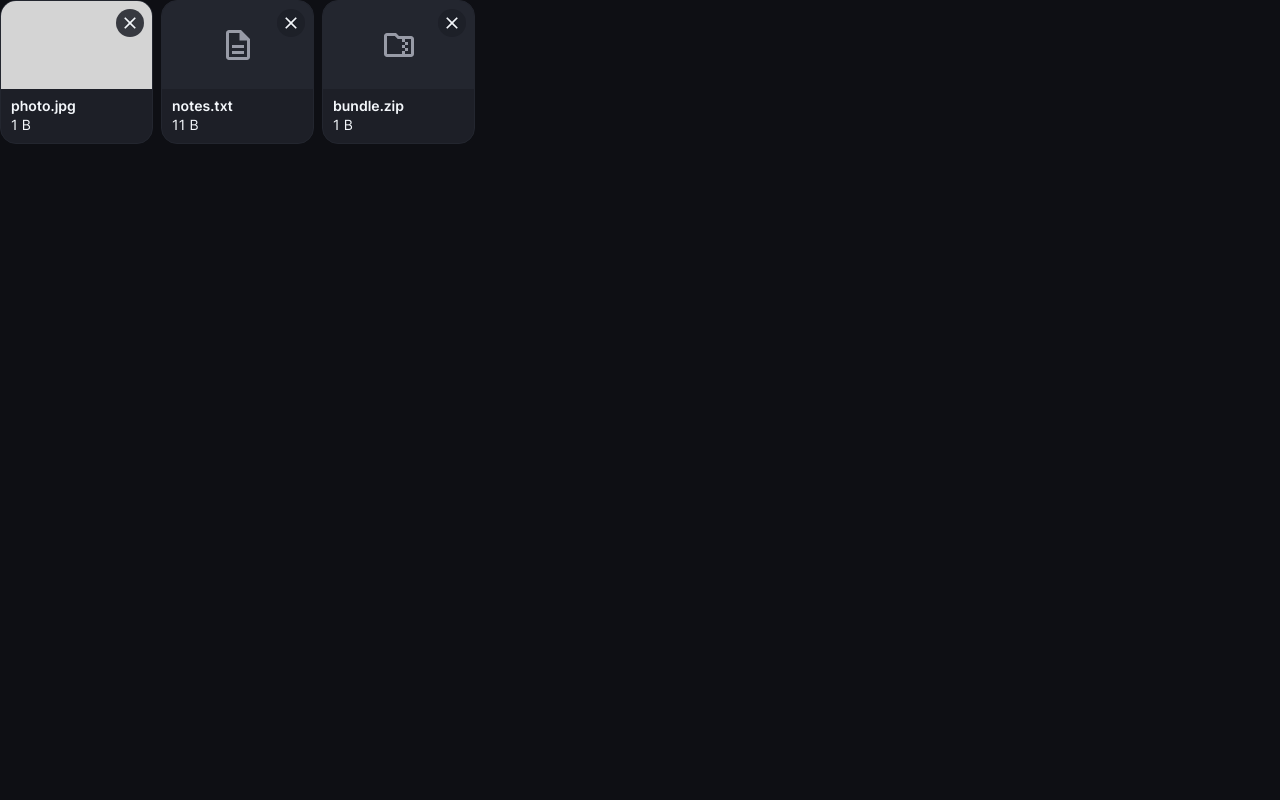
Test: ComposeAttachments › previews a file before it is sent, with Previous and Next
Click the button with aria-label "Preview photo.jpg". click: click(76, 72)
box: [1,1,152,144]
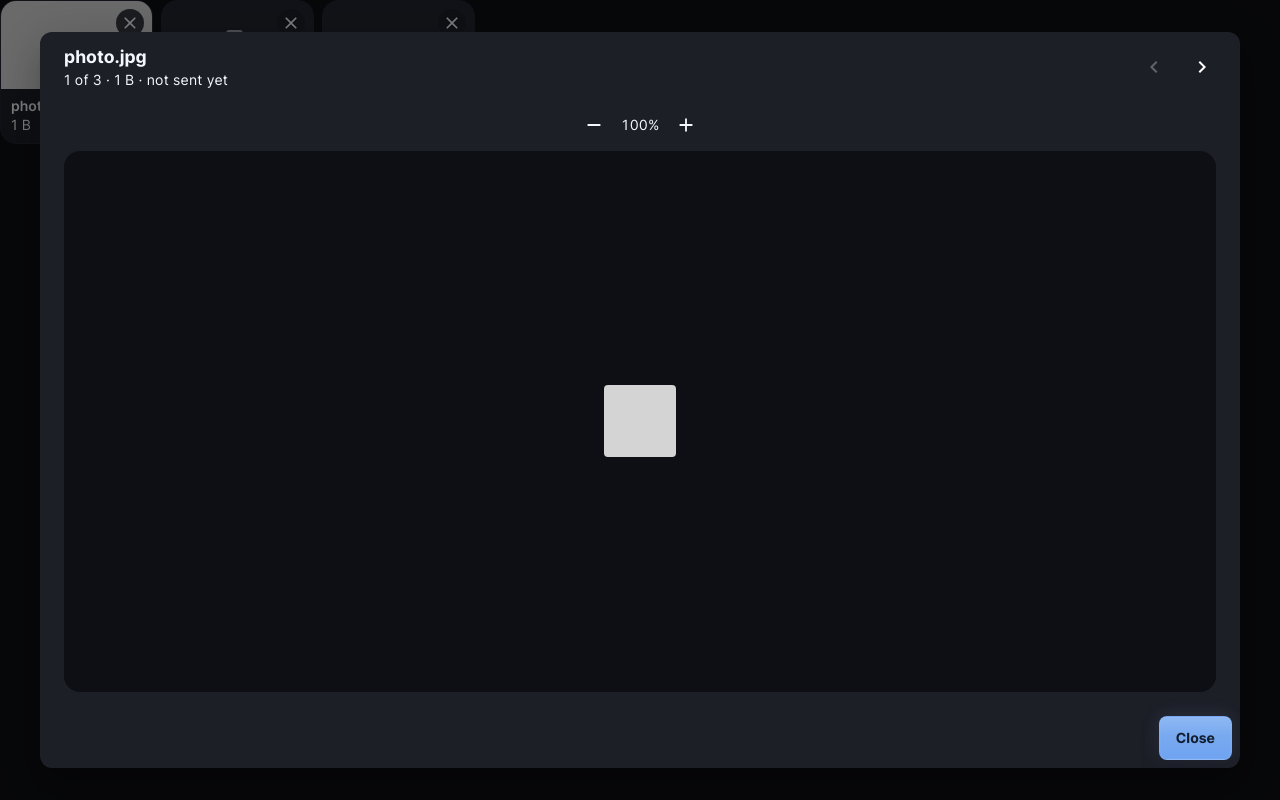
Check: the dialog "photo.jpg 1 of 3 · 1 B · not sent yet 100% Close" is shown
Click the button named "Next attachment". click: click(1202, 67)
box: [1180,45,1224,89]
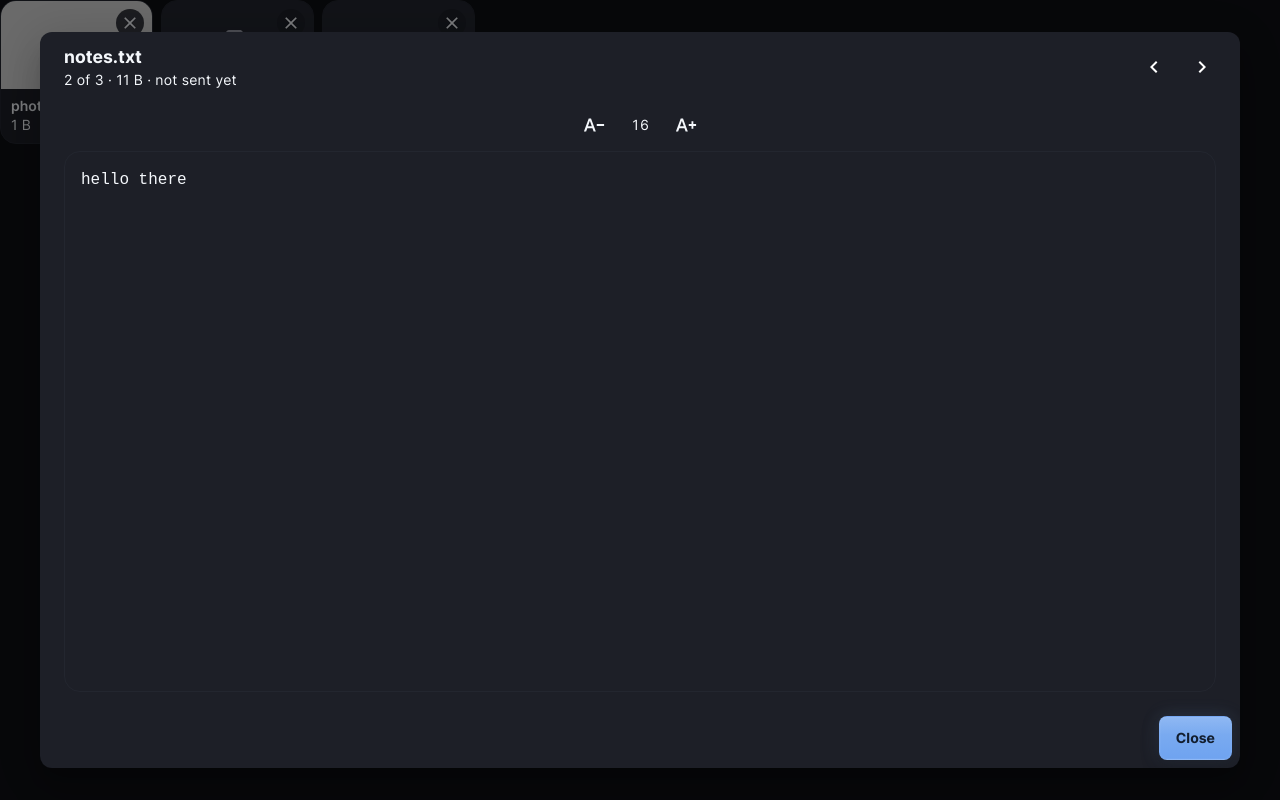
Check: the text "hello there" is shown, box [81,171,187,189]
Click the button named "Next attachment". click: click(1202, 67)
box: [1180,45,1224,89]
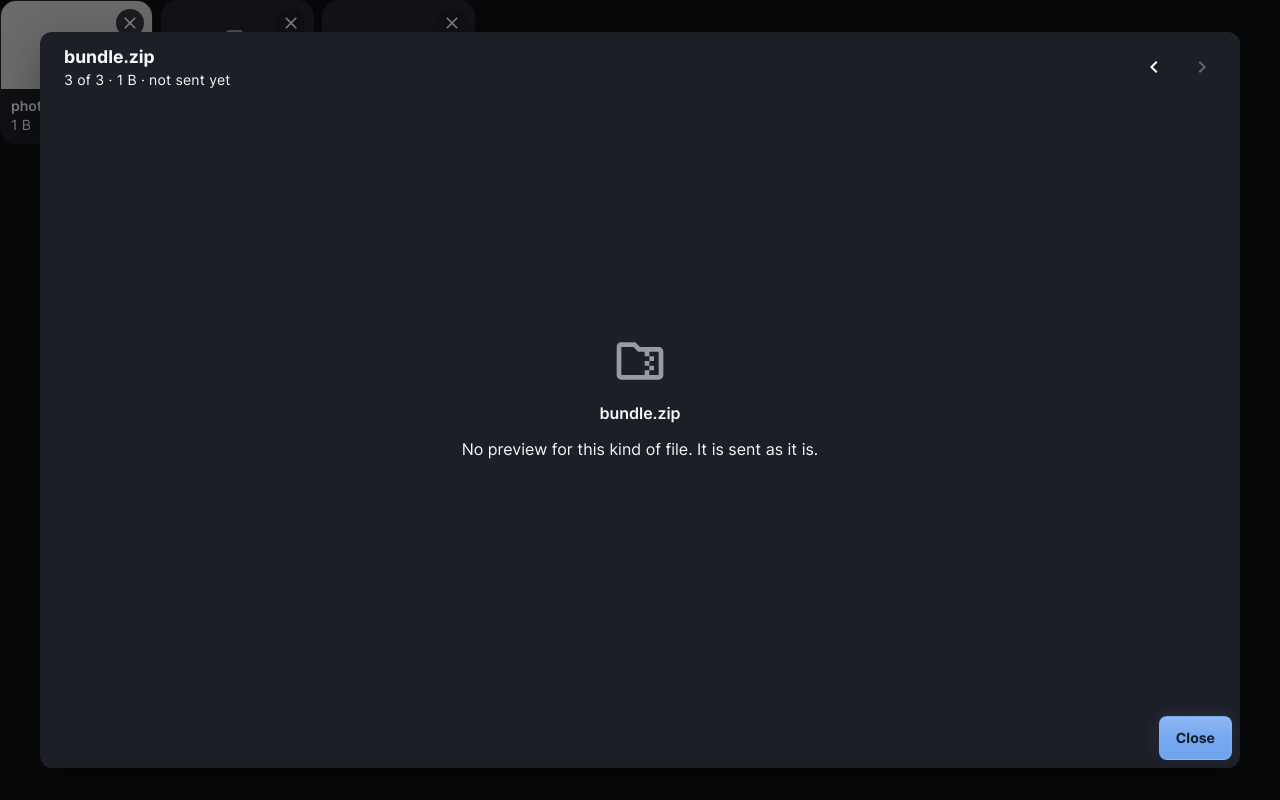
Check: the text "No preview for this kind of file. It is sent as it is." is shown, box [462,437,818,461]
Check: the button named "Next attachment" is disabled, box [1180,45,1224,89]
Click the button "Close". click: click(1195, 738)
box: [1159,716,1232,760]
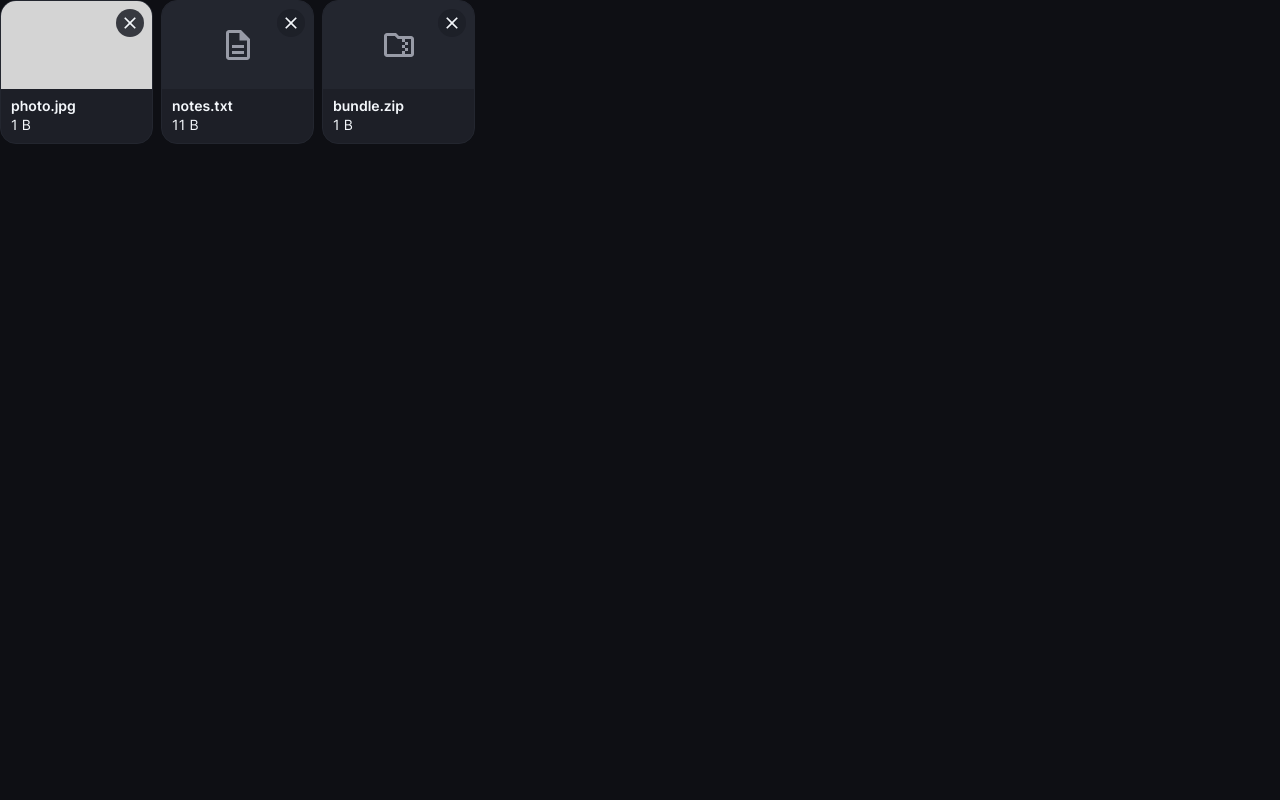
Check: the dialog is gone
